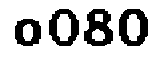0: (117, 5, 152, 52), (46, 6, 80, 49)
8: (83, 6, 115, 49)
o: (12, 17, 44, 47)
